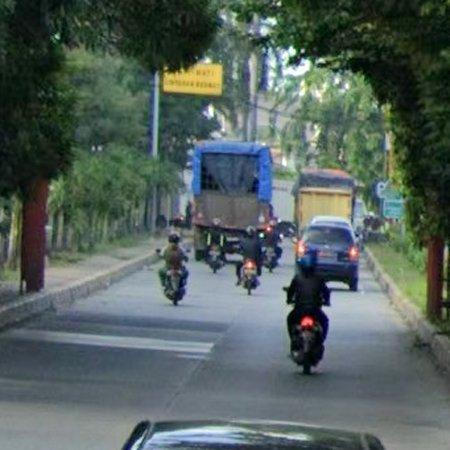motorcycles: (292, 315, 325, 374)
